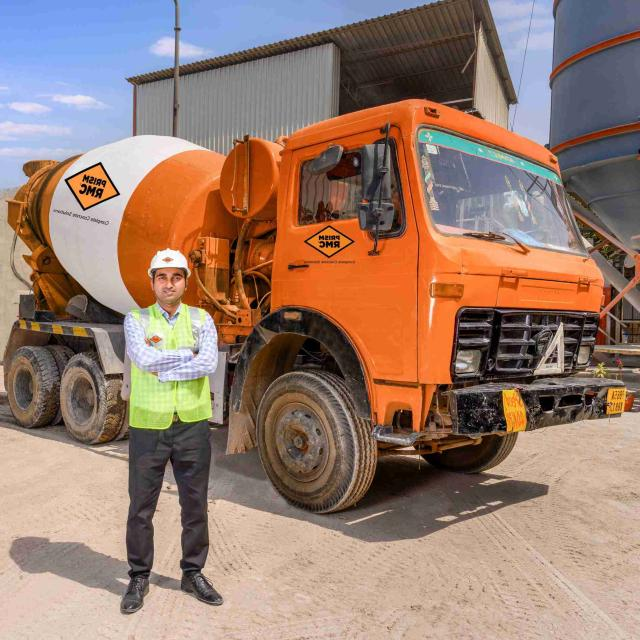truck: (4, 99, 623, 512)
